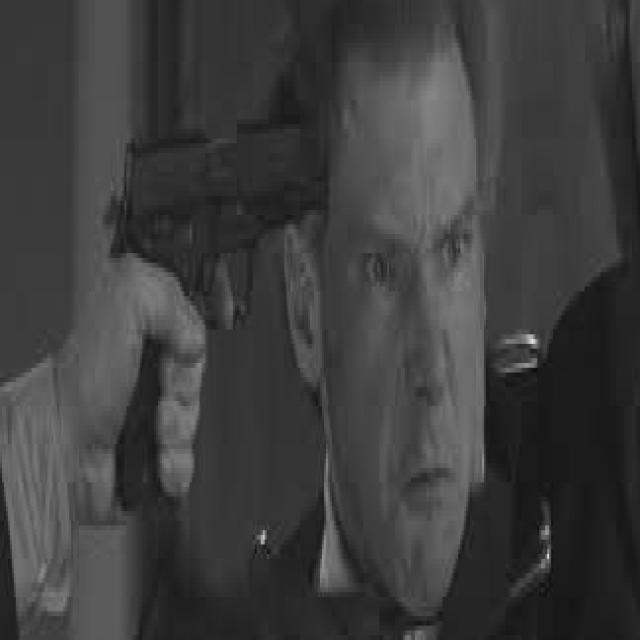gun: (73, 59, 349, 573)
